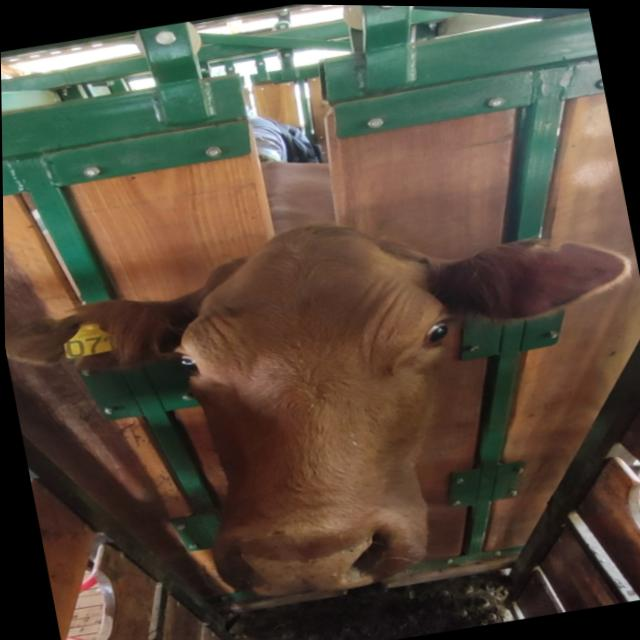cowFace: (157, 202, 497, 610)
